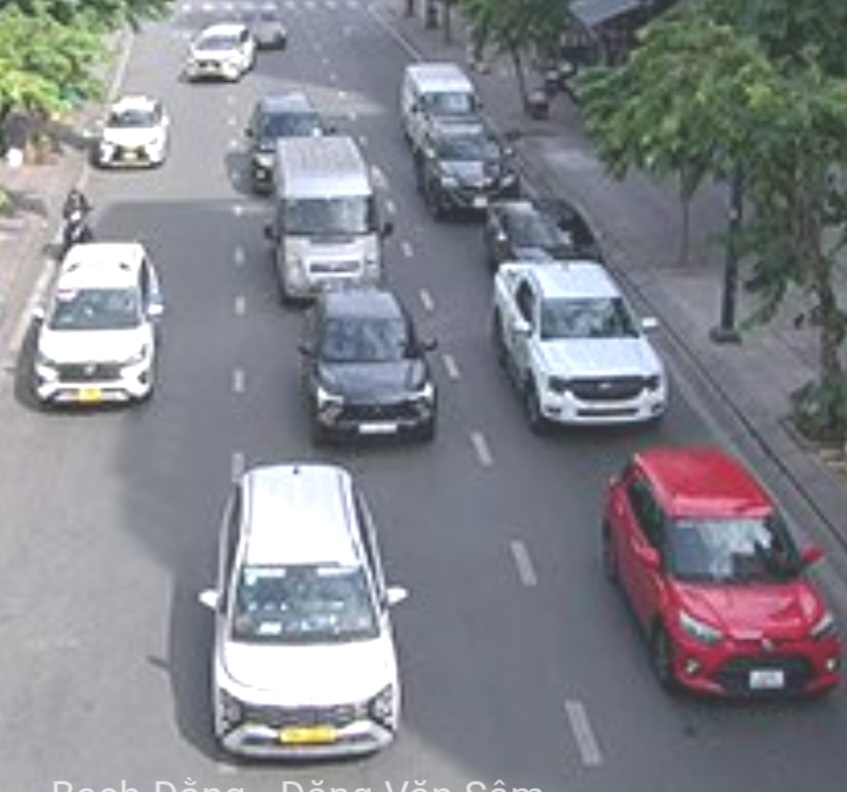car: (596, 447, 841, 702), (226, 475, 401, 759), (489, 266, 668, 430), (31, 244, 159, 408), (303, 290, 435, 446), (269, 139, 378, 301), (478, 196, 608, 261), (414, 134, 520, 212), (101, 89, 180, 170), (403, 62, 484, 138), (184, 23, 255, 81)
